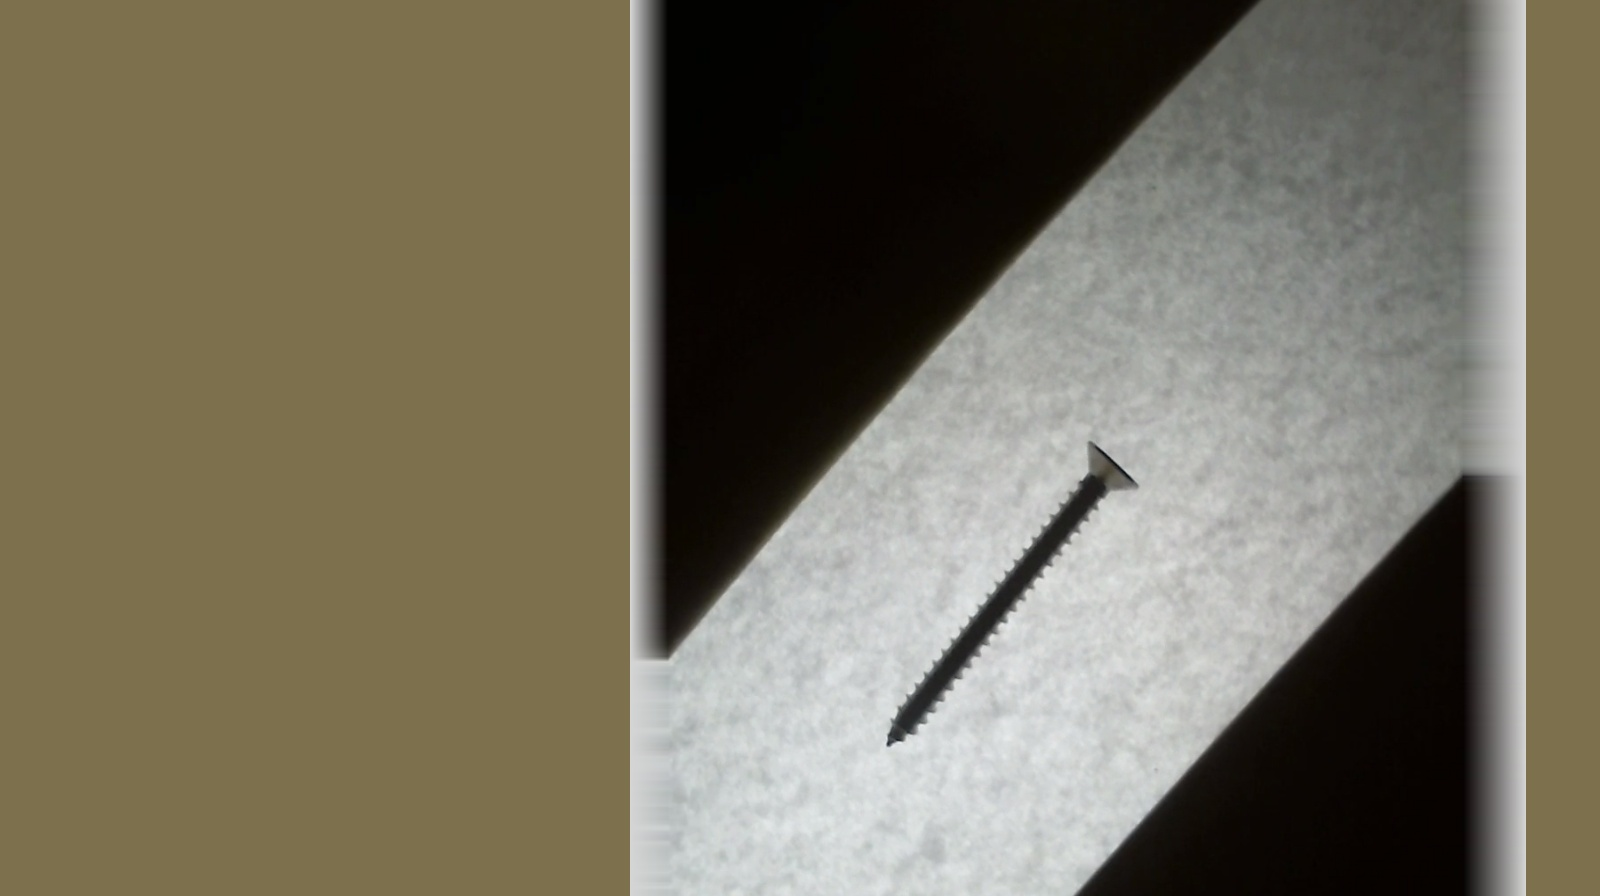S002: (878, 430, 1143, 757)
